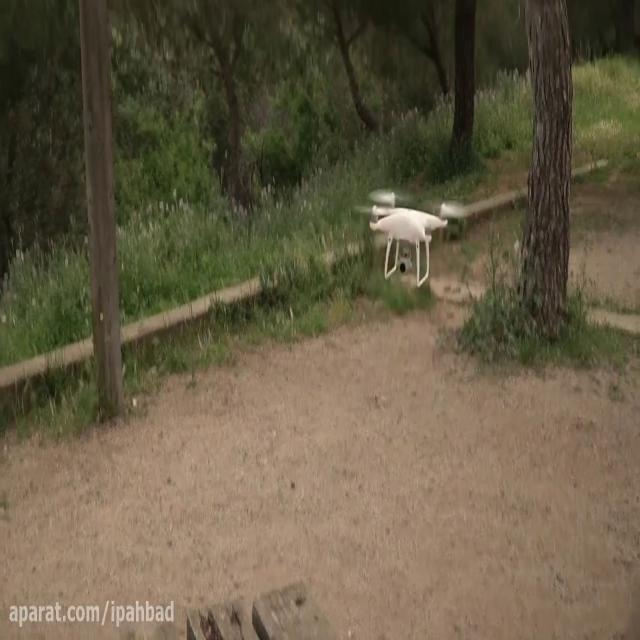drone: (357, 186, 467, 286)
